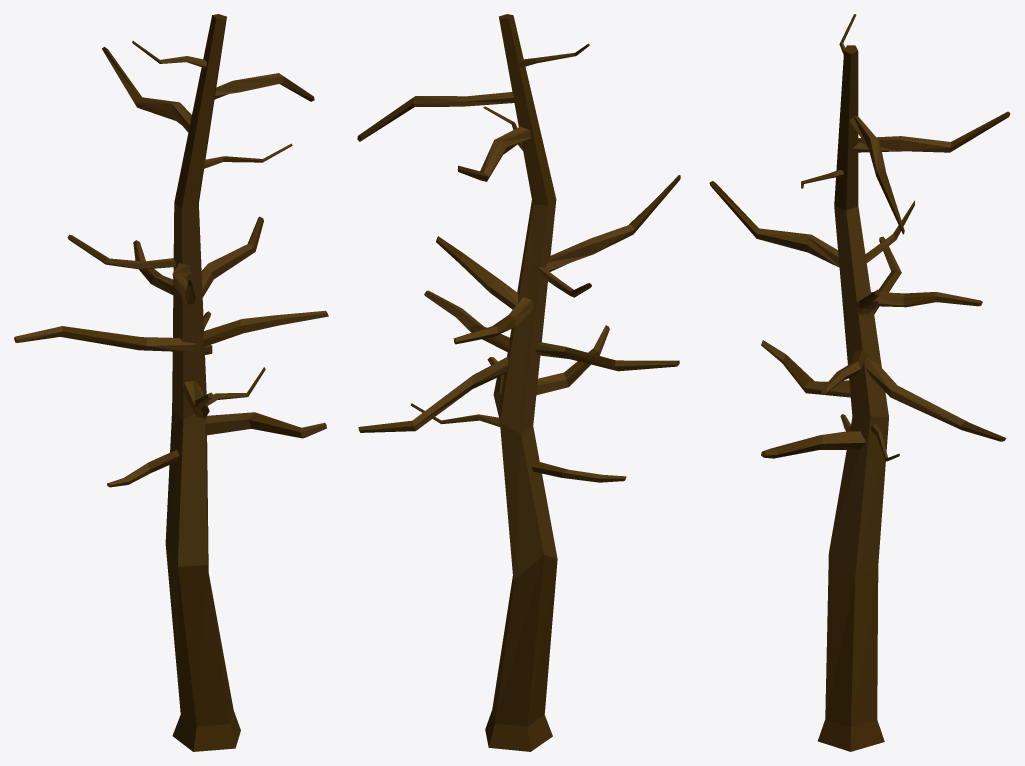
The model's file is dead-tree.glb.
3 views of the same model, side by side, from view 1: azimuth 30°, elevation 25°; view 2: azimuth 150°, elevation 25°; view 3: azimuth 270°, elevation 25° (orthographic). The views are drawn at different scales.
Parts seen in each view (by area): view 1: tree_2_3_atlass_1_0; view 2: tree_2_3_atlass_1_0; view 3: tree_2_3_atlass_1_0.
Part boxes in pixels (x1=…): tree_2_3_atlass_1_0: x1=14, y1=14, x2=328, y2=751; tree_2_3_atlass_1_0: x1=357, y1=14, x2=680, y2=751; tree_2_3_atlass_1_0: x1=709, y1=14, x2=1010, y2=751.
Bounding box in the file's own units: 6.27 × 13.89 × 5.46.
1 material, 1 textured.
